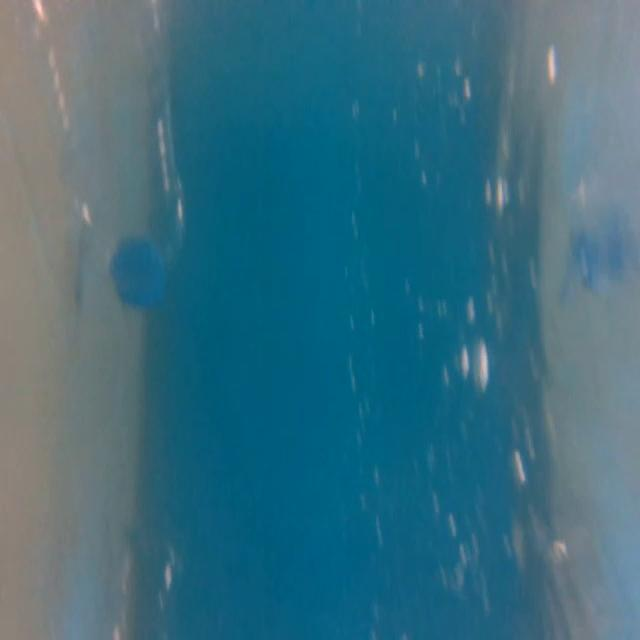plastic bottle: (10, 1, 195, 313)
